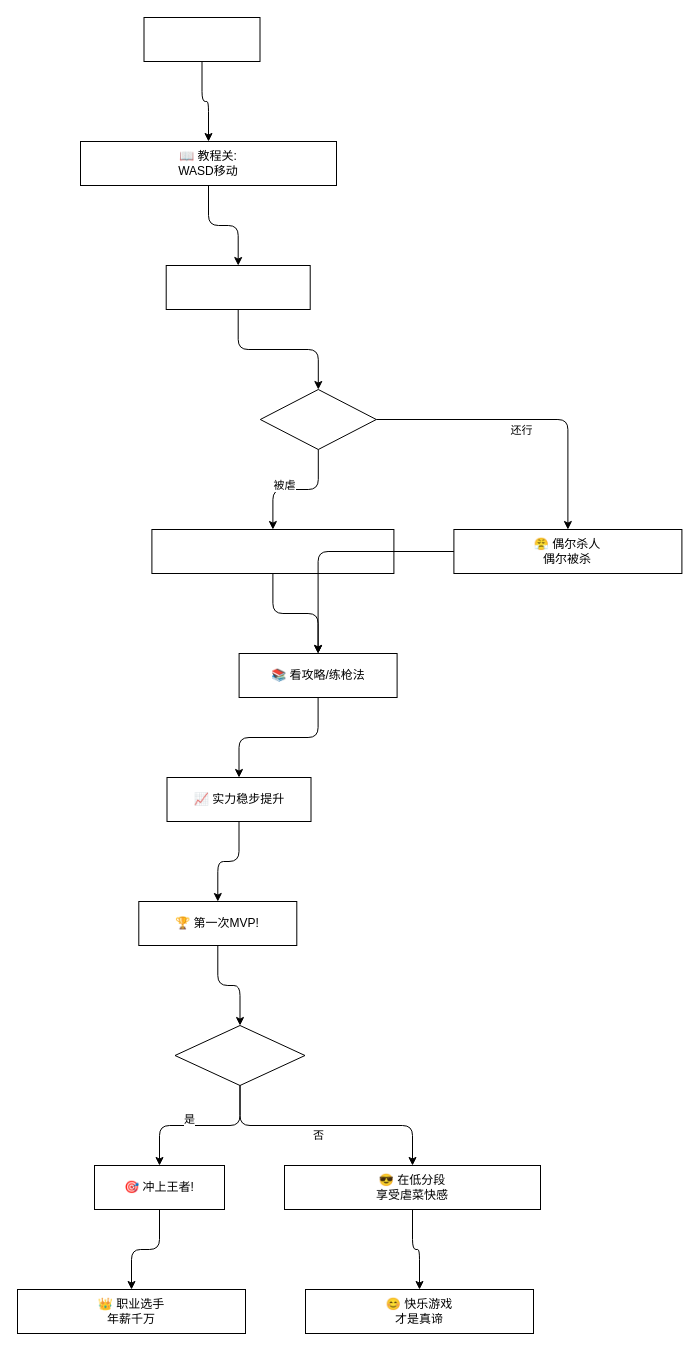
This 700x1351 diagram has some shape labels left out. Here are the shapes that lost their labels. From the top down, the centre of each, then its label:
At point (201, 39): "🎮 新手玩家".
At point (237, 287): "⚔️ 第一次实战".
At point (317, 419): "💀 结果如何".
At point (272, 551): "😭 0杀20死 被队友骂".
At point (239, 1055): "🔥 继续冲分?".
